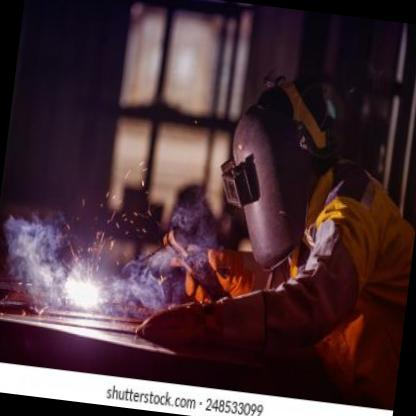Gloves: (133, 274, 273, 353), (169, 240, 258, 301)
